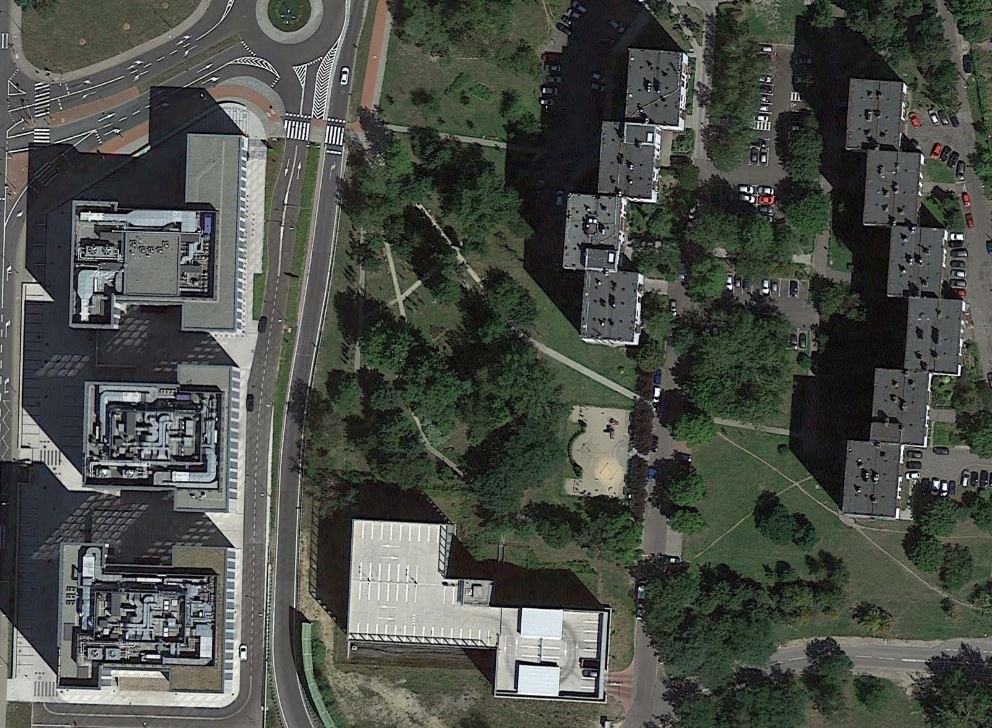block of flats: (834, 65, 973, 529), (337, 513, 618, 710), (554, 44, 695, 352), (66, 128, 254, 342), (50, 532, 243, 698), (70, 350, 247, 516)
